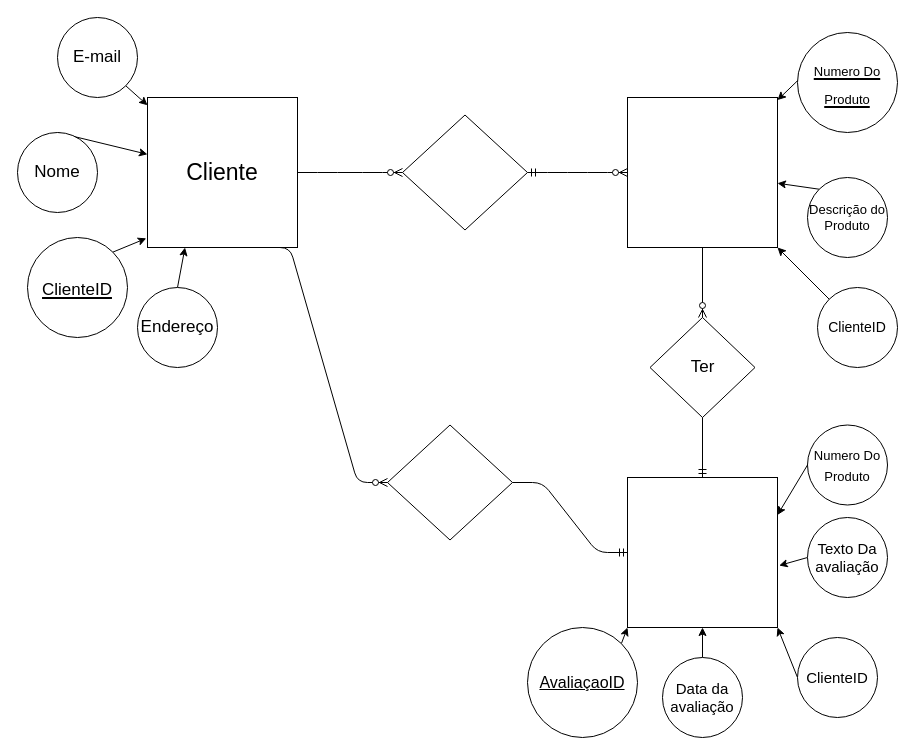
This 915x755 diagram has some shape labels left out. The centre of each missing label's shape, as x and y in pixels:
Avaliação: the point at 702,552
Comprar: the point at 465,172
Fazer: the point at 449,482
Produto: the point at 702,172
